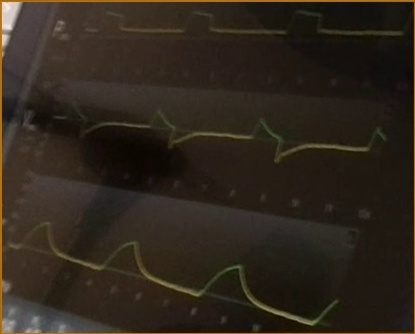Normal Flow: (54, 93, 386, 166)
Normal Volume: (10, 219, 340, 327)
